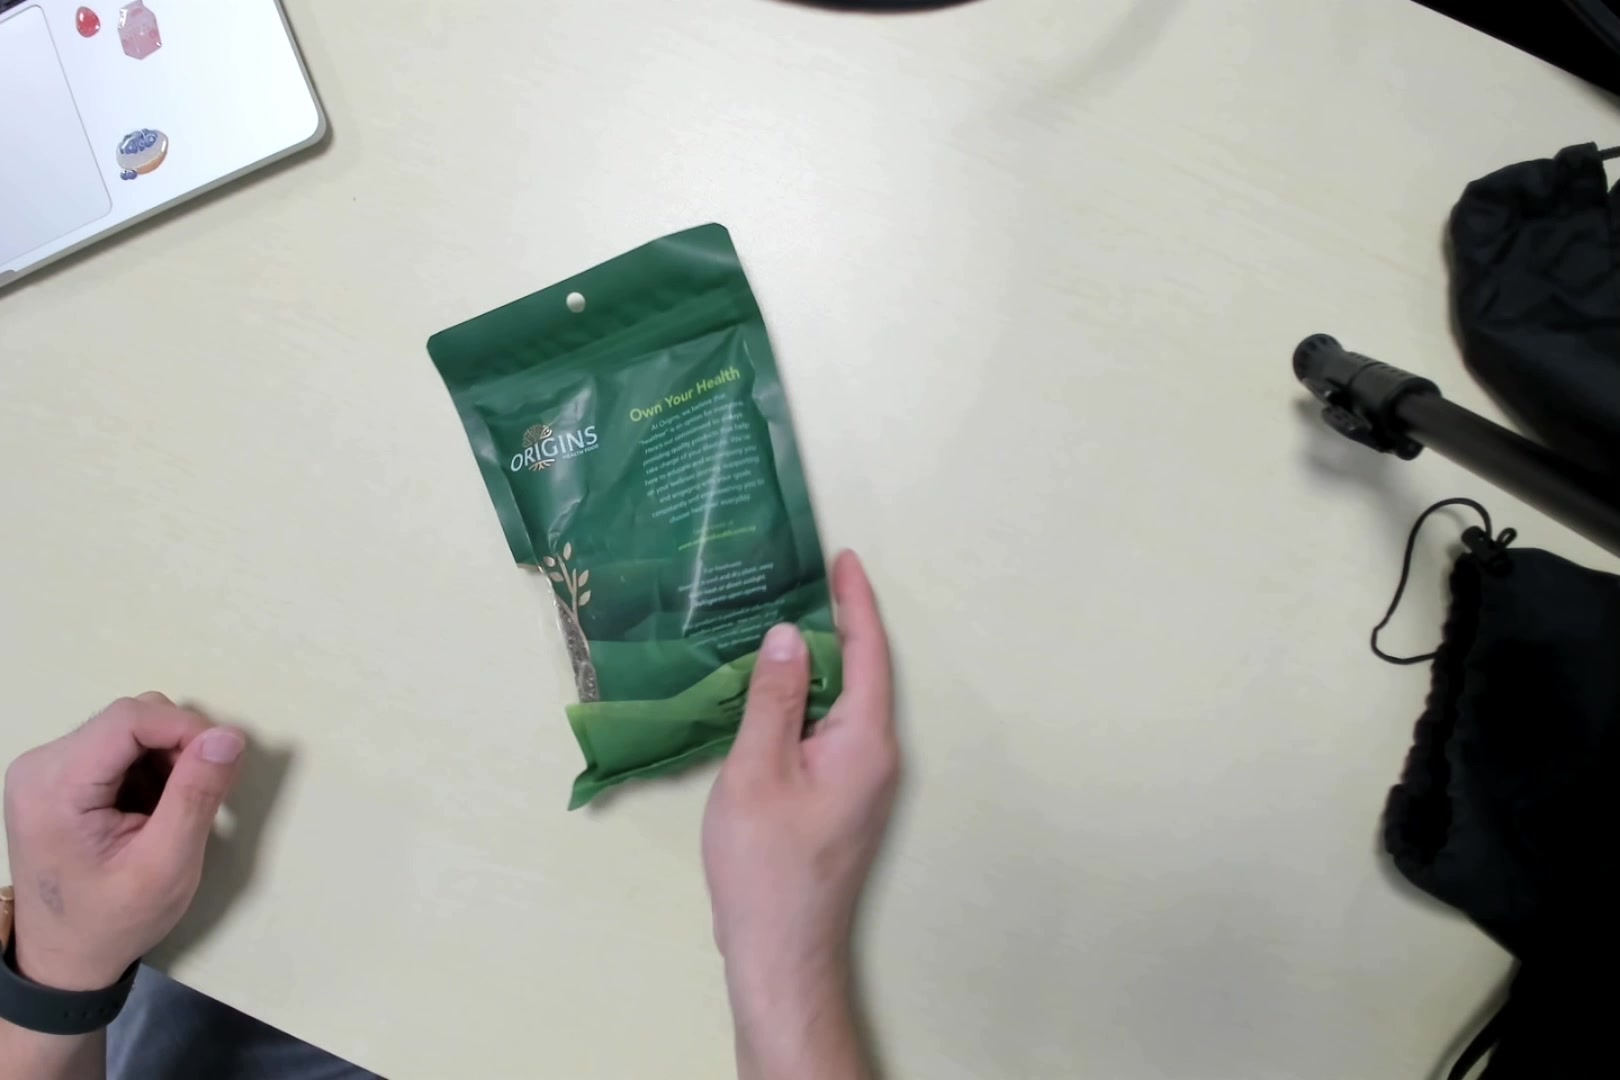OtherDriedFood_200-299g_NonHalal_NonHealthy: (457, 225, 849, 783)
